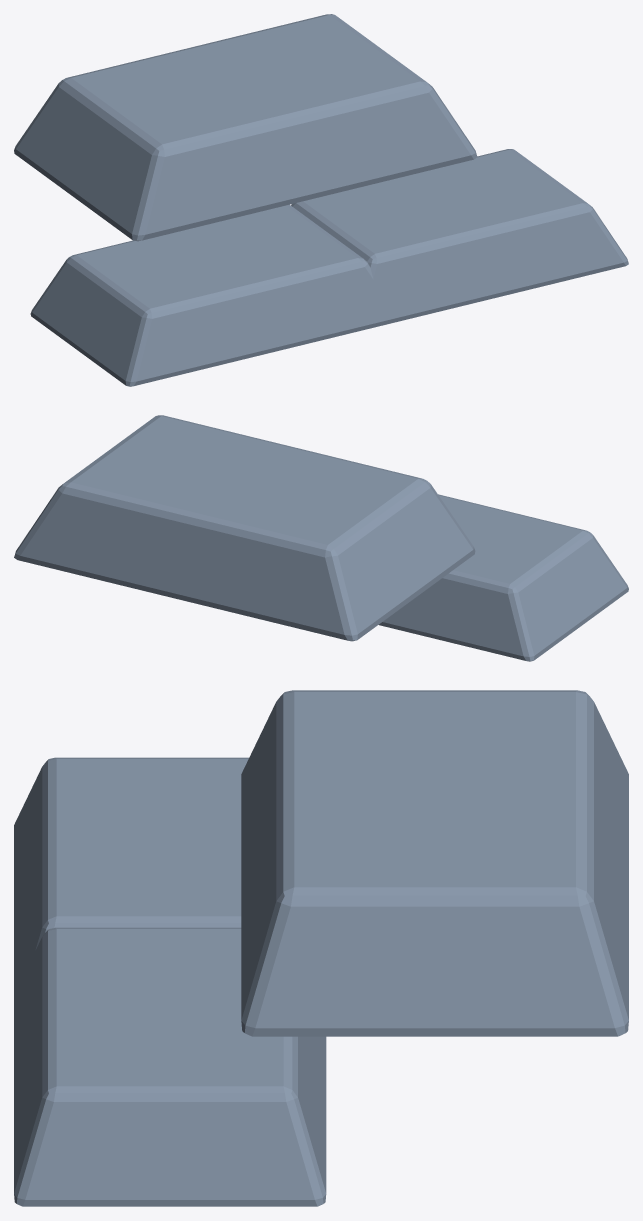
The model's file is iron-resource.glb.
The picture shows the model from 3 angles, top to bottom: view 1: azimuth 30°, elevation 25°; view 2: azimuth 150°, elevation 25°; view 3: azimuth 270°, elevation 25°; orthographic projection. The views are drawn at different scales.
Parts seen in each view (by area): view 1: steel_mesh.015; view 2: steel_mesh.015; view 3: steel_mesh.015.
Boxes of the visible parts, bbox=[...] form: steel_mesh.015: bbox=[14, 14, 628, 386]; steel_mesh.015: bbox=[14, 415, 628, 661]; steel_mesh.015: bbox=[14, 690, 628, 1206].
Bounding box in the file's own units: 1.76 × 0.4992 × 1.21.
